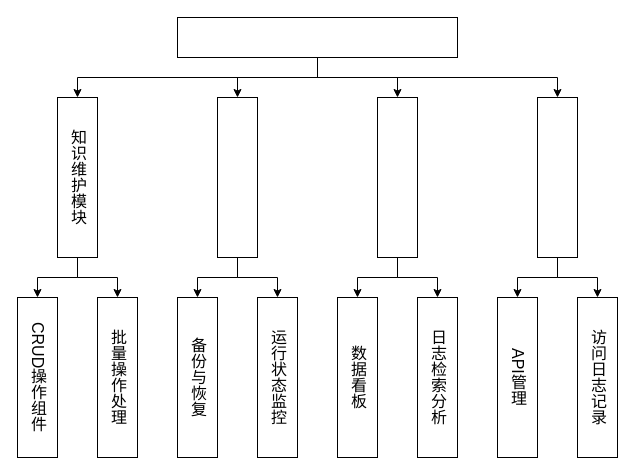
The diagram is 635 pixels wide and 475 high, and some of its shapes have lost their labels. Each missing label, with the centre of its shape:
"接口管理模块" goes at (557,177).
"私域军事知识库管理" goes at (317,37).
"系统维护模块" goes at (237,177).
"统计分析模块" goes at (397,177).
